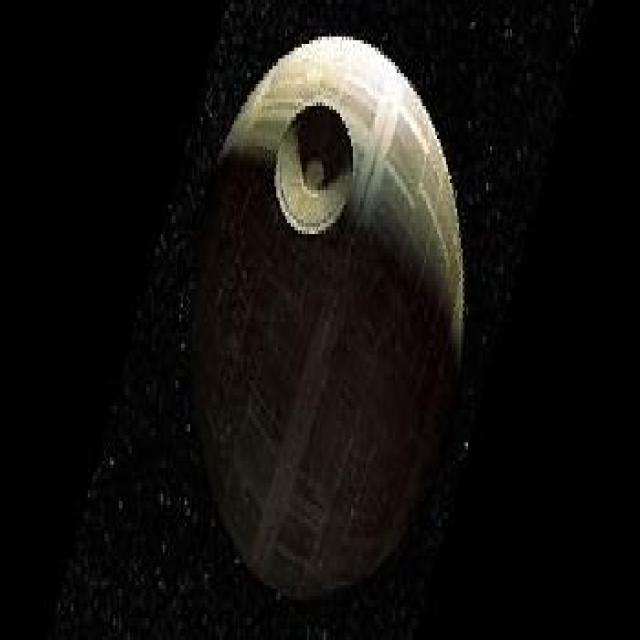Death Star: (176, 32, 485, 600)
